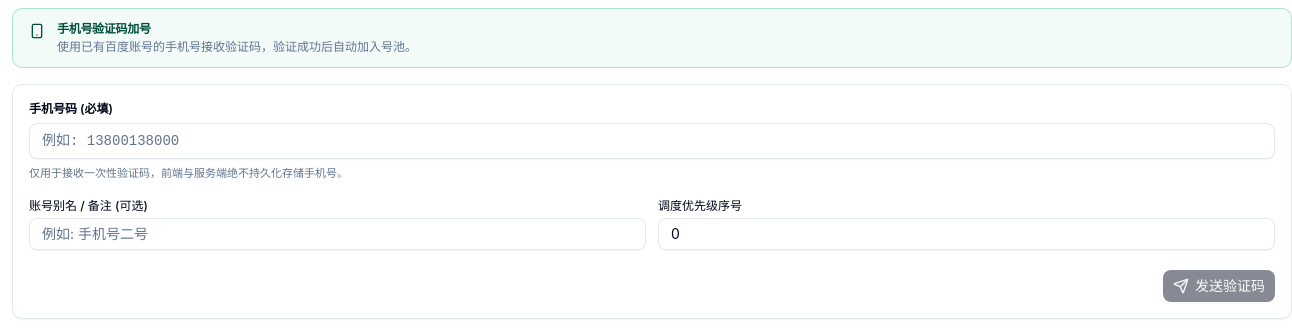
SMS account login › resets the old session when changing phone and displays terminal duplicate-account failures
Type "13800000000" into the field labelled "手机号码 (必填)" at (652, 141), box [29, 123, 1275, 159]
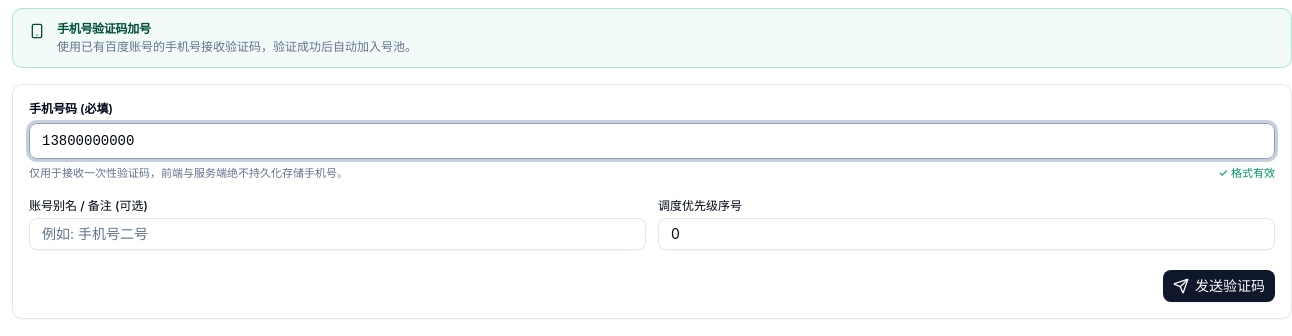
Click the button "发送验证码" at (1219, 286), box [1163, 270, 1275, 302]
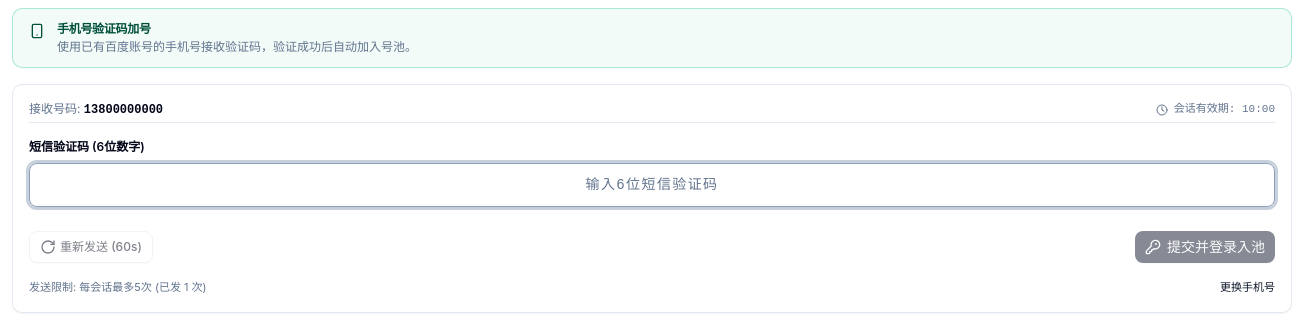
Click the button "更换手机号" at (1248, 287), box [1220, 279, 1275, 296]
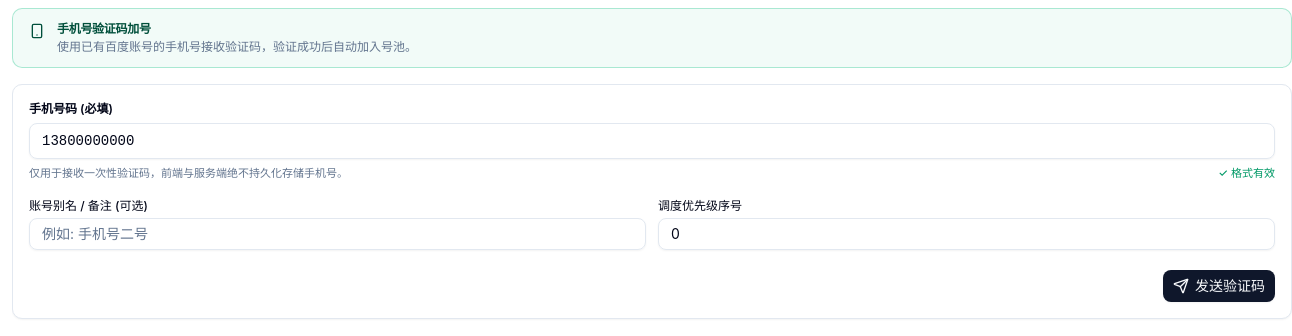
Replace the text in the field labelled "手机号码 (必填)" with "13900000000" at (652, 141), box [29, 123, 1275, 159]
Click the button "发送验证码" at (1219, 286), box [1163, 270, 1275, 302]
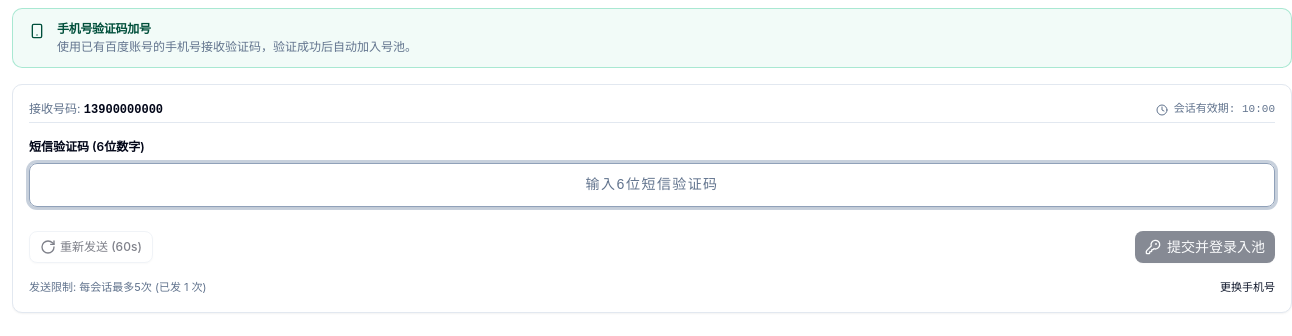
Type "123456" into the field labelled "短信验证码 (6位数字)" at (652, 185), box [29, 163, 1275, 207]
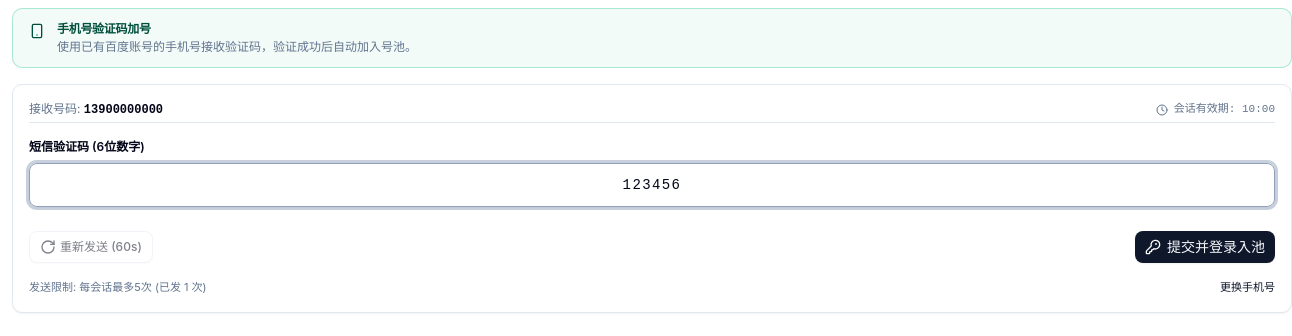
Click the button "提交并登录入池" at (1205, 247), box [1135, 231, 1275, 263]
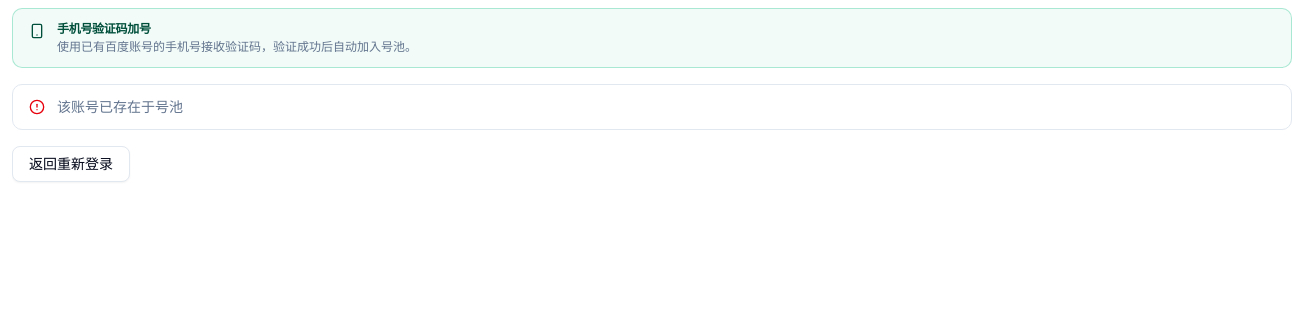
Expected: the text "该账号已存在于号池" is shown, [57, 98, 183, 115]
Expected: the button "返回重新登录" is shown, [12, 146, 130, 182]
